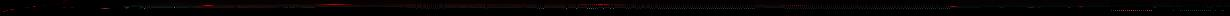Blue cone: (25, 7, 30, 8), (32, 6, 37, 7)
Yellow cone: (1078, 6, 1085, 8)
